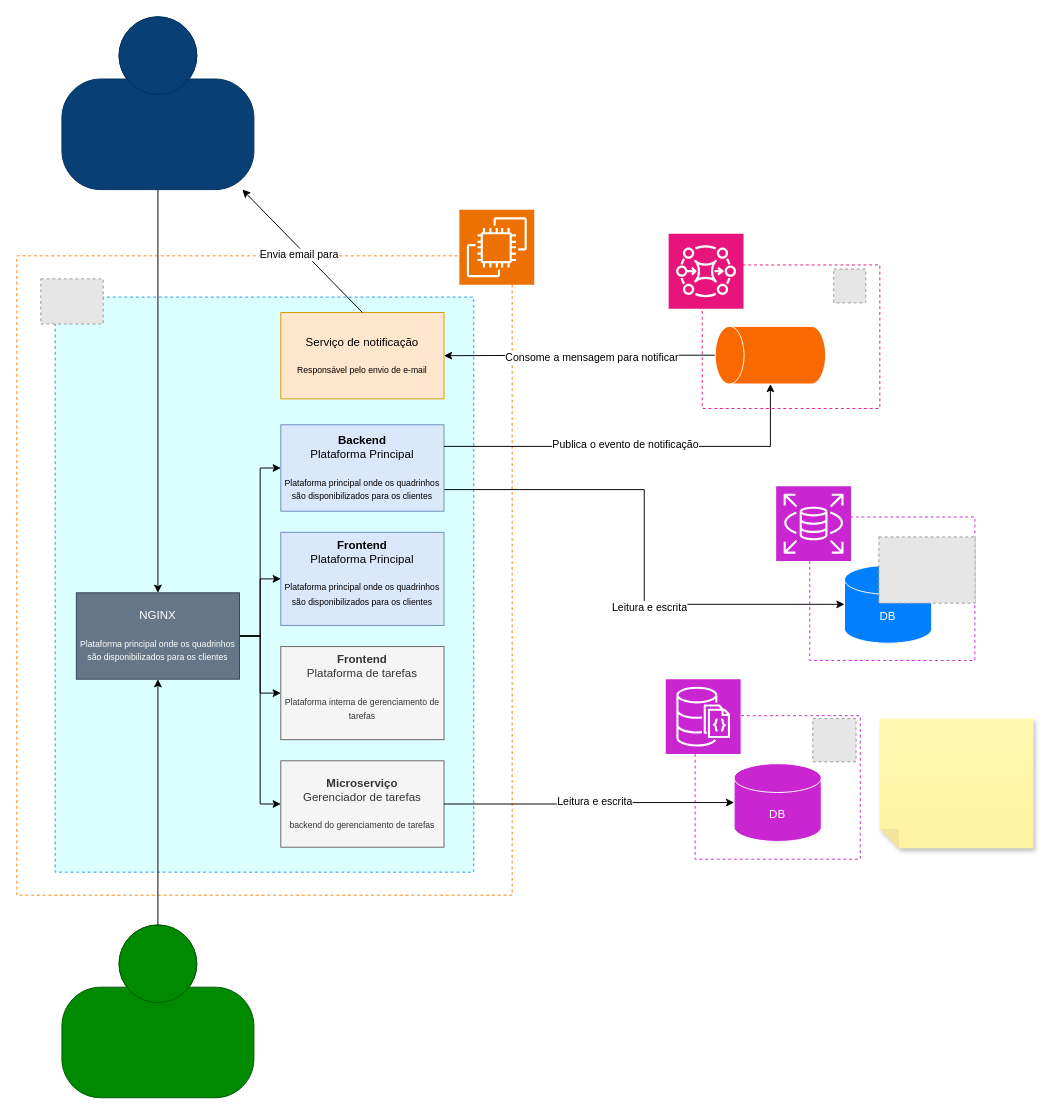
Some shapes in this 1056 by 1115 pixel diagram are drawn without their labels. Grey dashed boxes stand in for pictures. The shapes that lost their labels are listed below. From the top down, each one's centre as x and y in pixels, then its label:
At point (157, 103): "Cliente [Person] Quem consome os quadrinhos na plataforma".
At point (770, 354): "queue".
At point (957, 784): "Custo do DocumentDB avaliado em aproximadamente $121".
At point (157, 1011): "Equipe de Produção [Person] Quem produz os quadrinhos para a plataforma".
